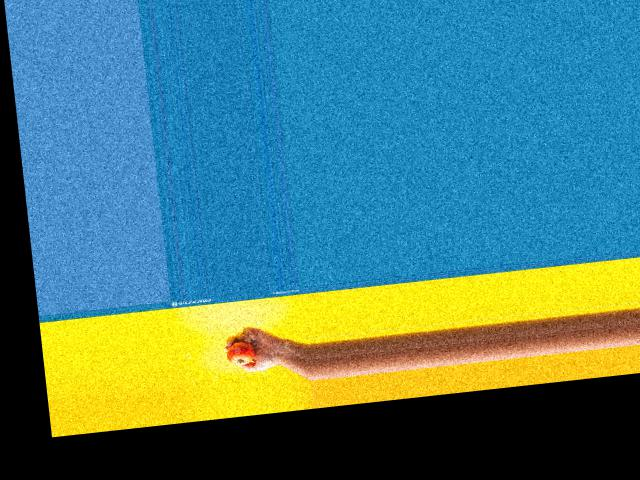tomato: (226, 340, 255, 365)
